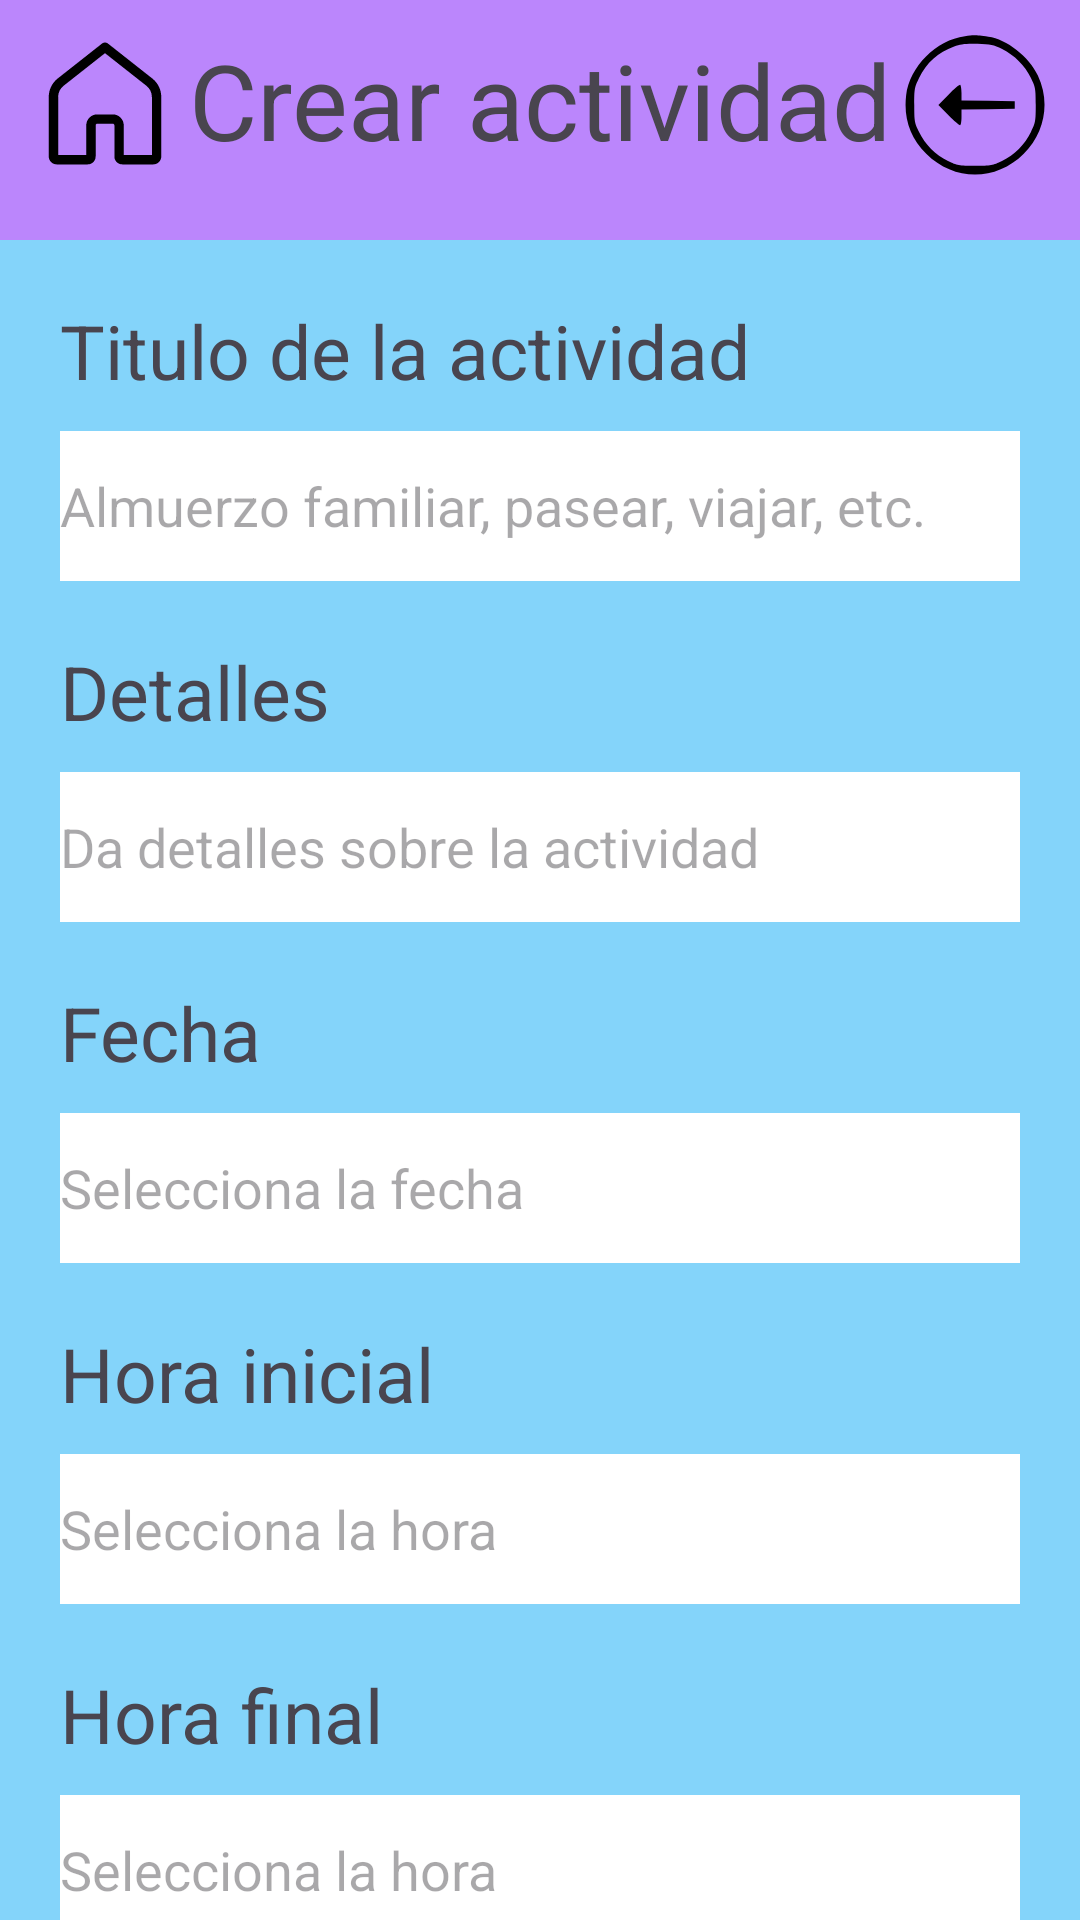

Point at icon controls on the screen. Image size 1080w x 1920h, points as point (x, y).
Boton para ir a la pantalla principal: point (105, 103)
Boton para volver atras: point (975, 105)
